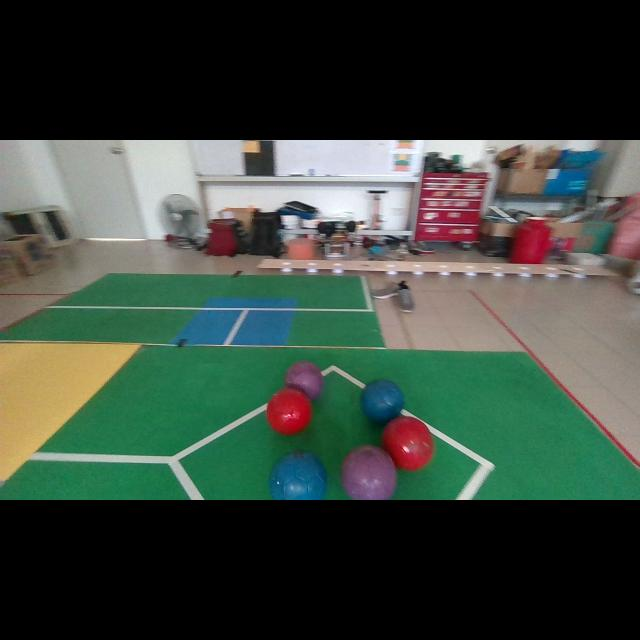B: (269, 450, 326, 500), (361, 379, 404, 424)
P: (341, 445, 398, 500), (284, 361, 322, 400)
R: (382, 416, 434, 470), (266, 388, 312, 435)
